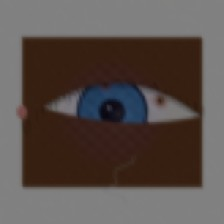foreign_body_visible: (148, 91, 172, 110)
